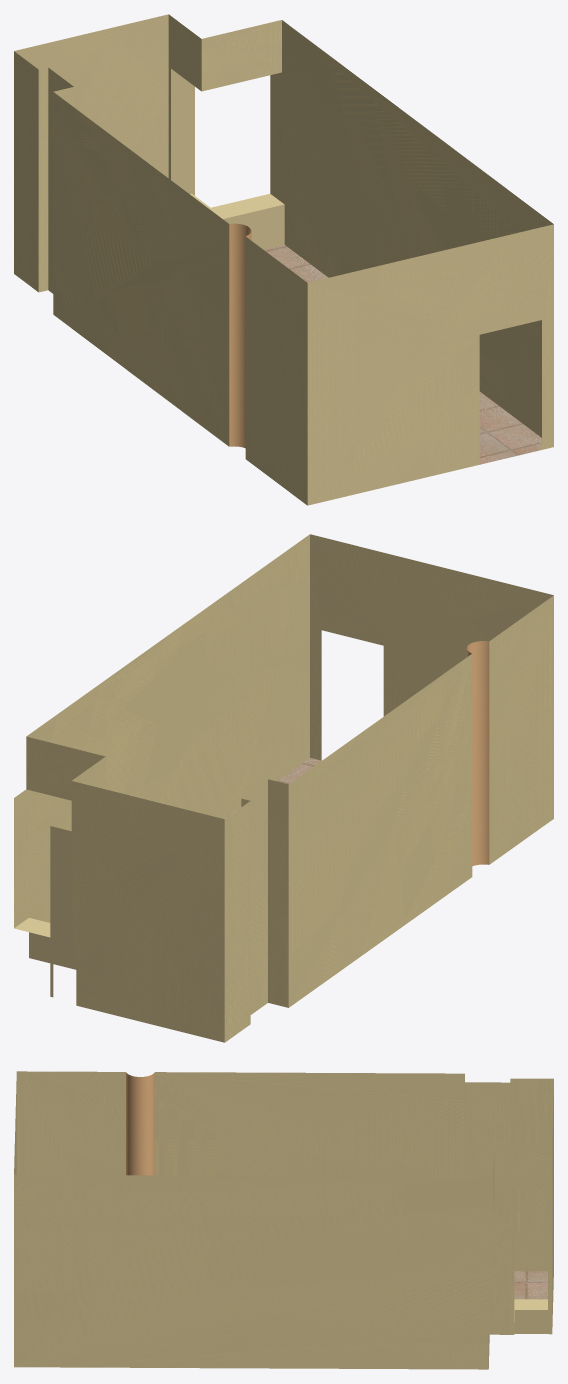
Rendered from SEM015.obj.
3 renders of one model, top to bottom at view 1: azimuth 30°, elevation 25°; view 2: azimuth 150°, elevation 25°; view 3: azimuth 270°, elevation 25°, orthographic. The views are drawn at different scales.
Parts seen in each view (by area): view 1: Mesh1 SEM015 Model; view 2: Mesh1 SEM015 Model; view 3: Mesh1 SEM015 Model.
Boxes of the visible parts, box(x1,y1,x2,y2) form: Mesh1 SEM015 Model: box(14, 14, 553, 505); Mesh1 SEM015 Model: box(14, 534, 553, 1042); Mesh1 SEM015 Model: box(14, 1071, 553, 1369).
Size of the model in its own units: 4.24 by 3.6 by 9.15.
5 materials, 2 textured.
